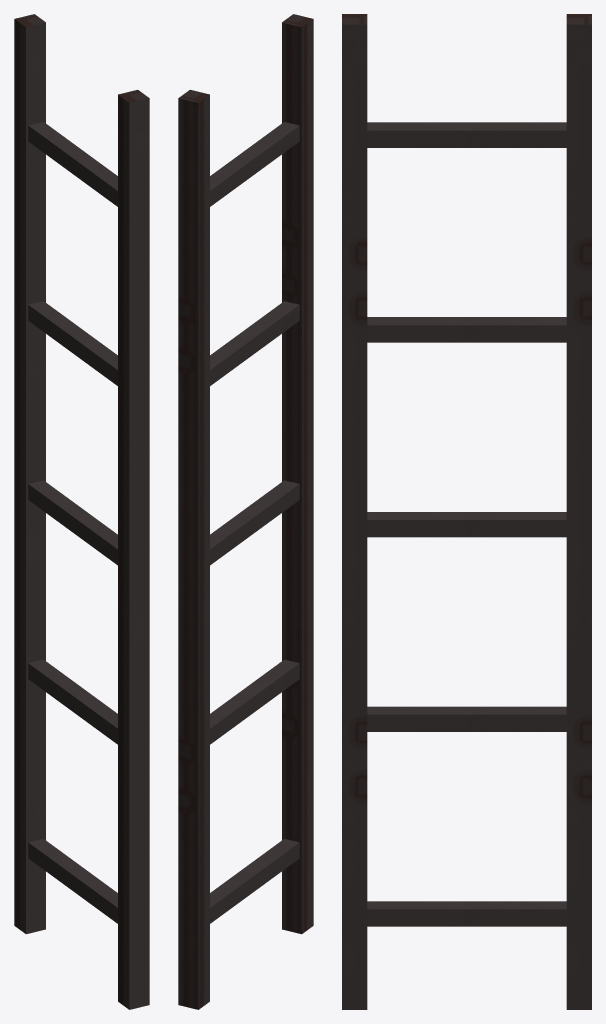
Rendered from Ladder_01.fbx.
3 views of the same model, side by side, from view 1: azimuth 30°, elevation 25°; view 2: azimuth 150°, elevation 25°; view 3: azimuth 270°, elevation 25° (orthographic). The views are drawn at different scales.
Parts seen in each view (by area): view 1: Ladder_LOD0; view 2: Ladder_LOD0; view 3: Ladder_LOD0.
Boxes of the visible parts, x1,y1,x2,y2 form: Ladder_LOD0: (14, 14, 149, 1009); Ladder_LOD0: (178, 14, 313, 1009); Ladder_LOD0: (342, 14, 591, 1009).
Size of what is drawn, in the model's own units: 0.0903 by 0.8947 by 3.89.
